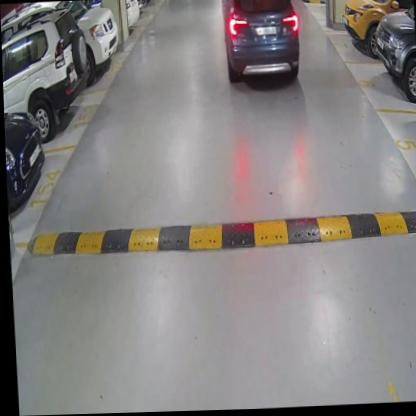np: (254, 26, 276, 39)
